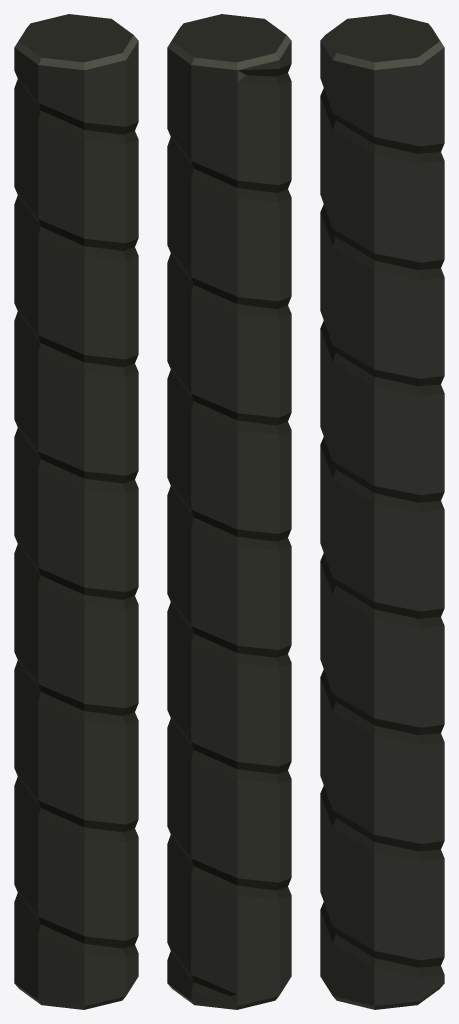
File: MW1_Melee_Handle_Bat_01.fbx
3 views of the same model, side by side, from view 1: azimuth 30°, elevation 25°; view 2: azimuth 210°, elevation 25°; view 3: azimuth 330°, elevation 25° (orthographic).
Parts seen in each view (by area): view 1: Melee_Handle_Bat_01; view 2: Melee_Handle_Bat_01; view 3: Melee_Handle_Bat_01.
Part boxes in pixels (box(x1,y1,x2,y2)): Melee_Handle_Bat_01: box(14, 14, 138, 1009); Melee_Handle_Bat_01: box(167, 14, 291, 1009); Melee_Handle_Bat_01: box(320, 14, 444, 1009).
Bounding box in the file's own units: 3.61 × 32.6 × 3.61.
